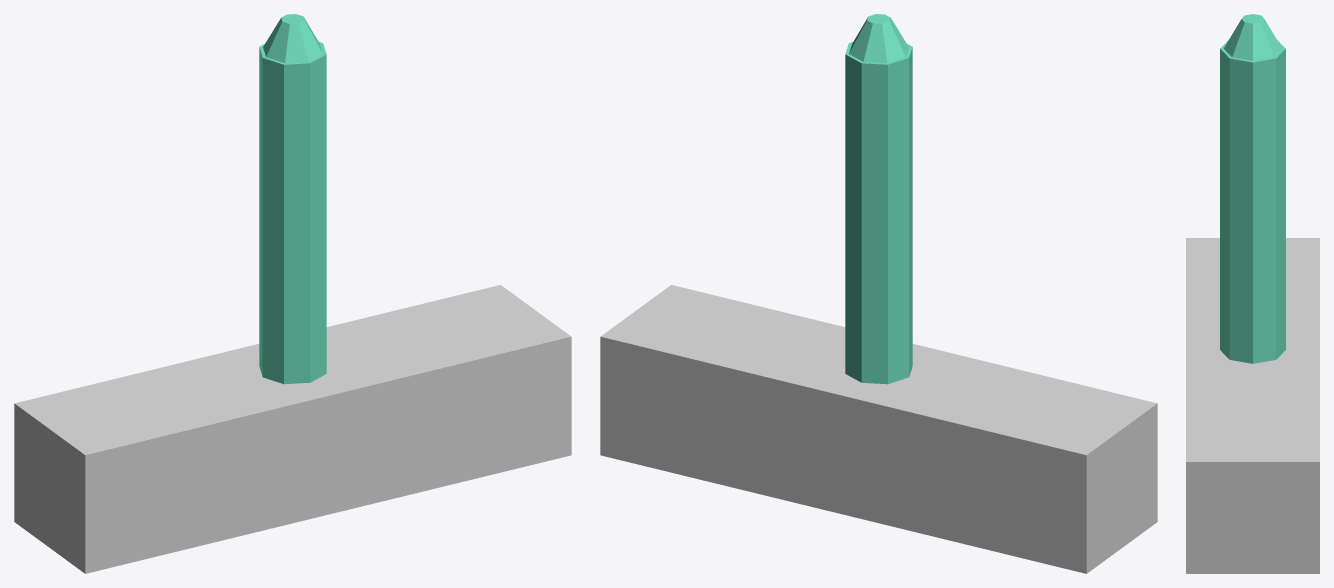
The model's file is adenineR.glb.
3 renders of one model, left to right at view 1: azimuth 30°, elevation 25°; view 2: azimuth 150°, elevation 25°; view 3: azimuth 270°, elevation 25°, orthographic. The views are drawn at different scales.
Parts seen in each view (by area): view 1: backbone, adenine; view 2: backbone, adenine; view 3: backbone, adenine.
Boxes of the visible parts, x1,y1,x2,y2 form: backbone: [14, 285, 571, 573]; adenine: [259, 14, 326, 384]; backbone: [600, 285, 1157, 573]; adenine: [845, 14, 912, 384]; backbone: [1186, 238, 1319, 573]; adenine: [1220, 14, 1285, 363].
Size of the model in its own units: 1.34 by 1.24 by 0.339.
